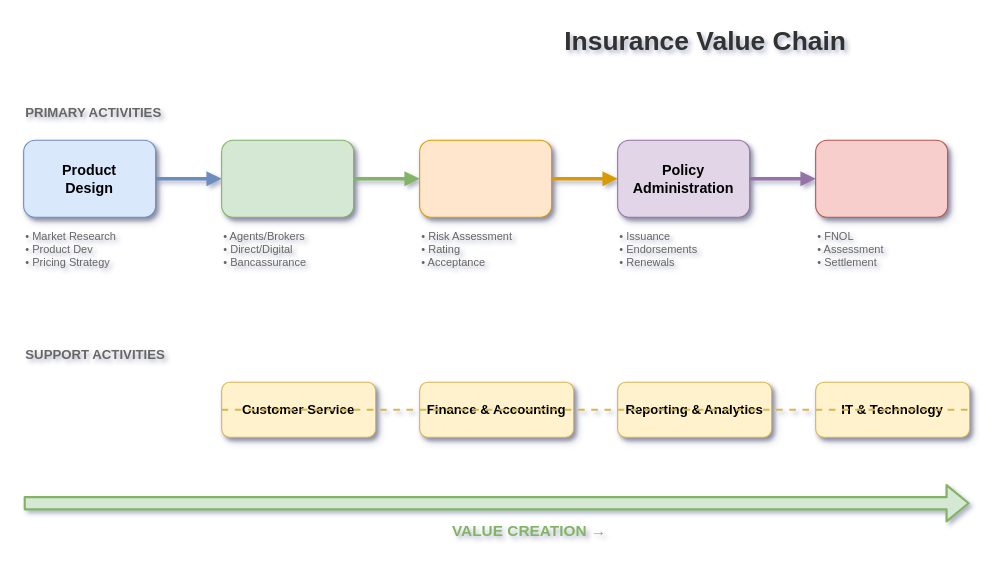
Some shapes in this 1002 by 572 pixel diagram are drawn without their labels. Here are the shapes that lost their labels. From the top down, the centre of each, then its label:
(x=288, y=180): Sales & Distribution
(x=486, y=180): Underwriting & Pricing
(x=882, y=180): Claims Management
